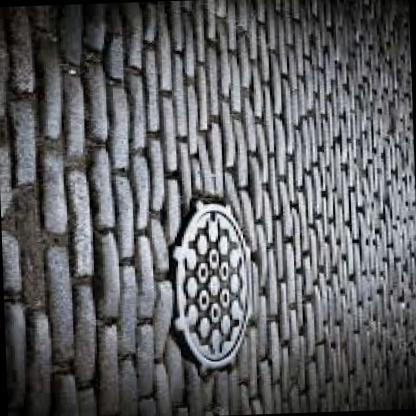manholes: (106, 176, 289, 400)
